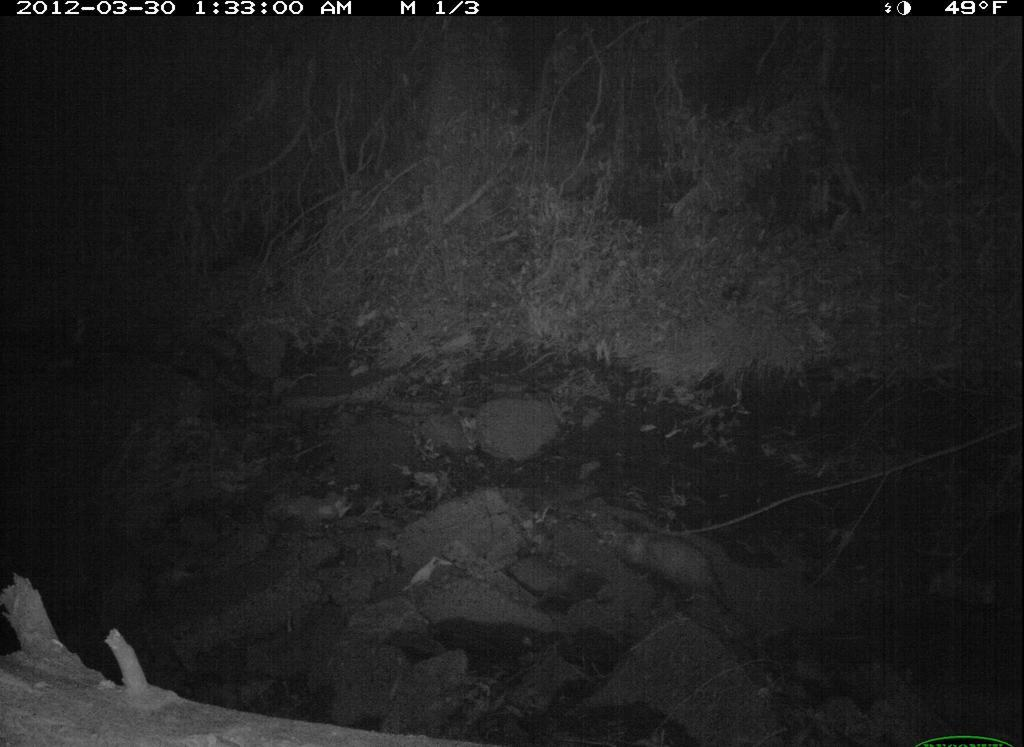opossum: (598, 515, 761, 624)
